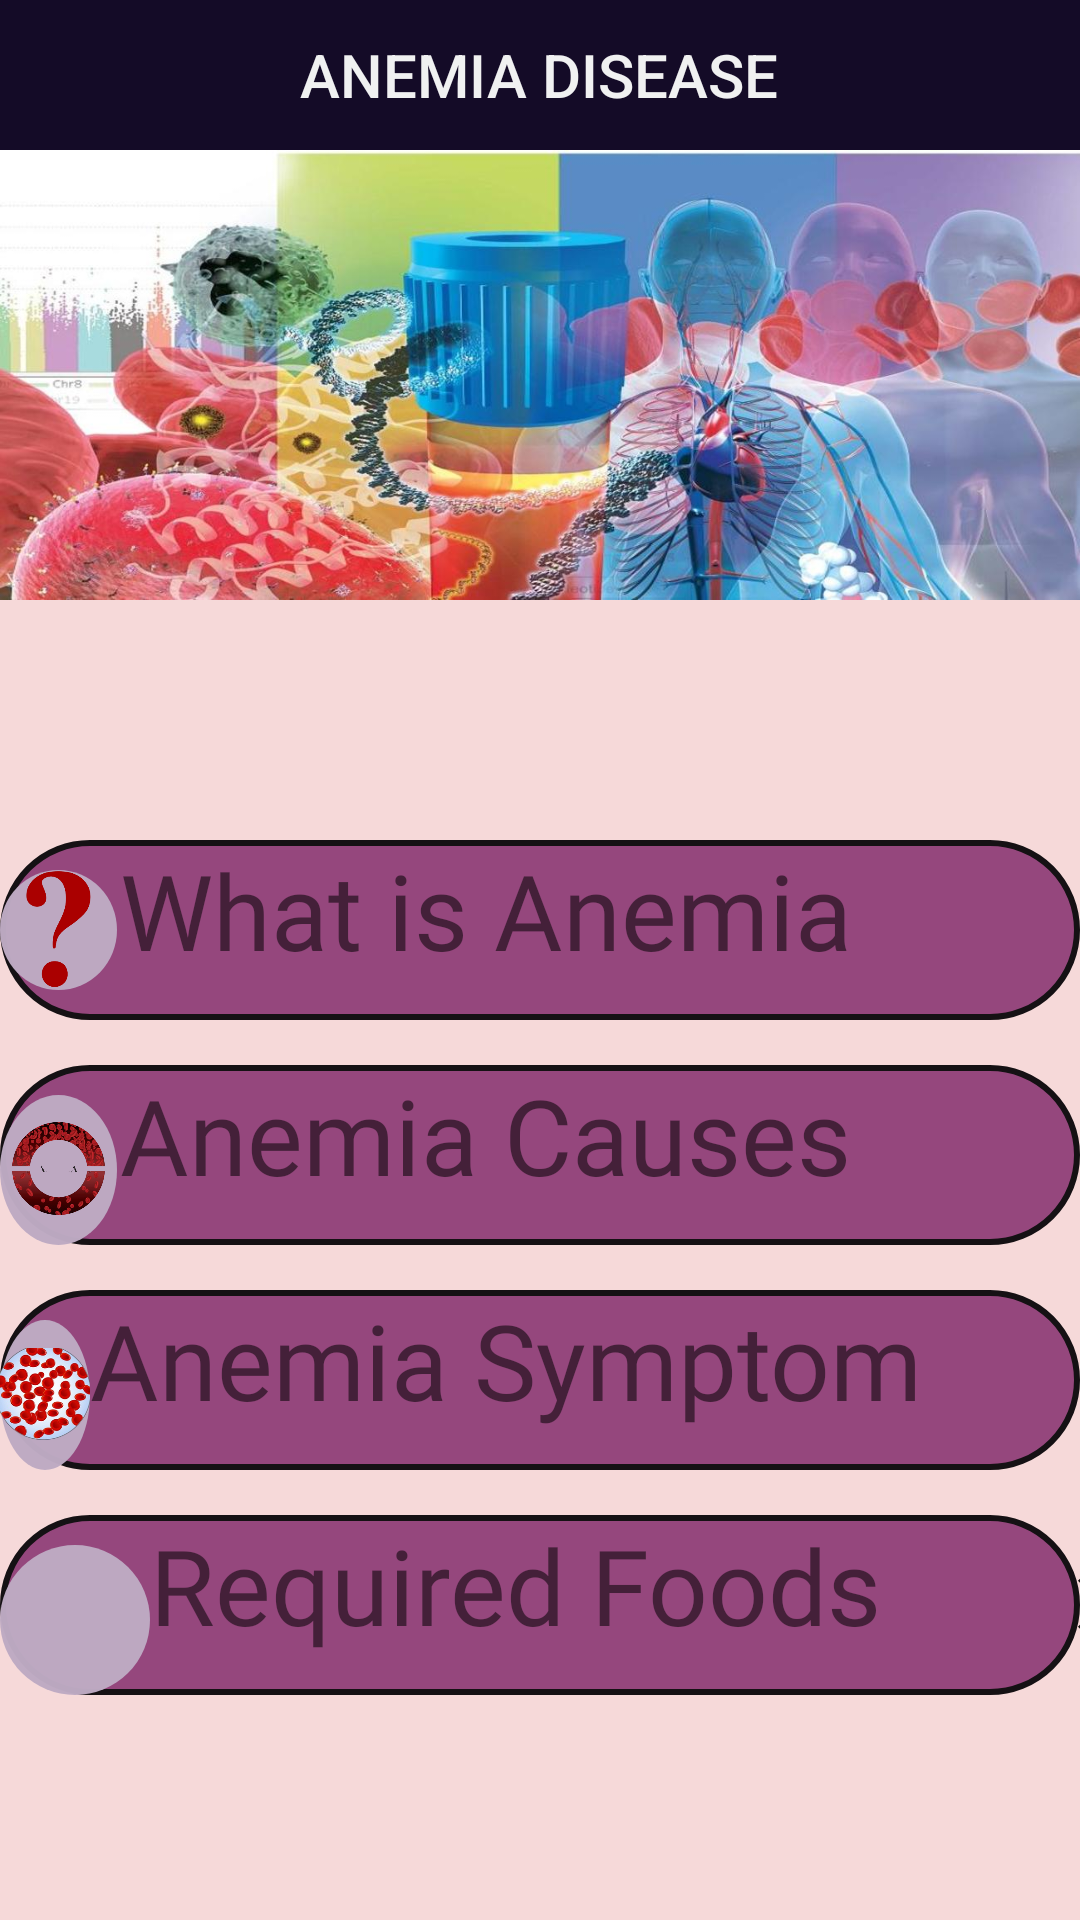

Point at icon controls on the screen. Image size 1080*1920, points as (x,y).
question mark: (58,930)
